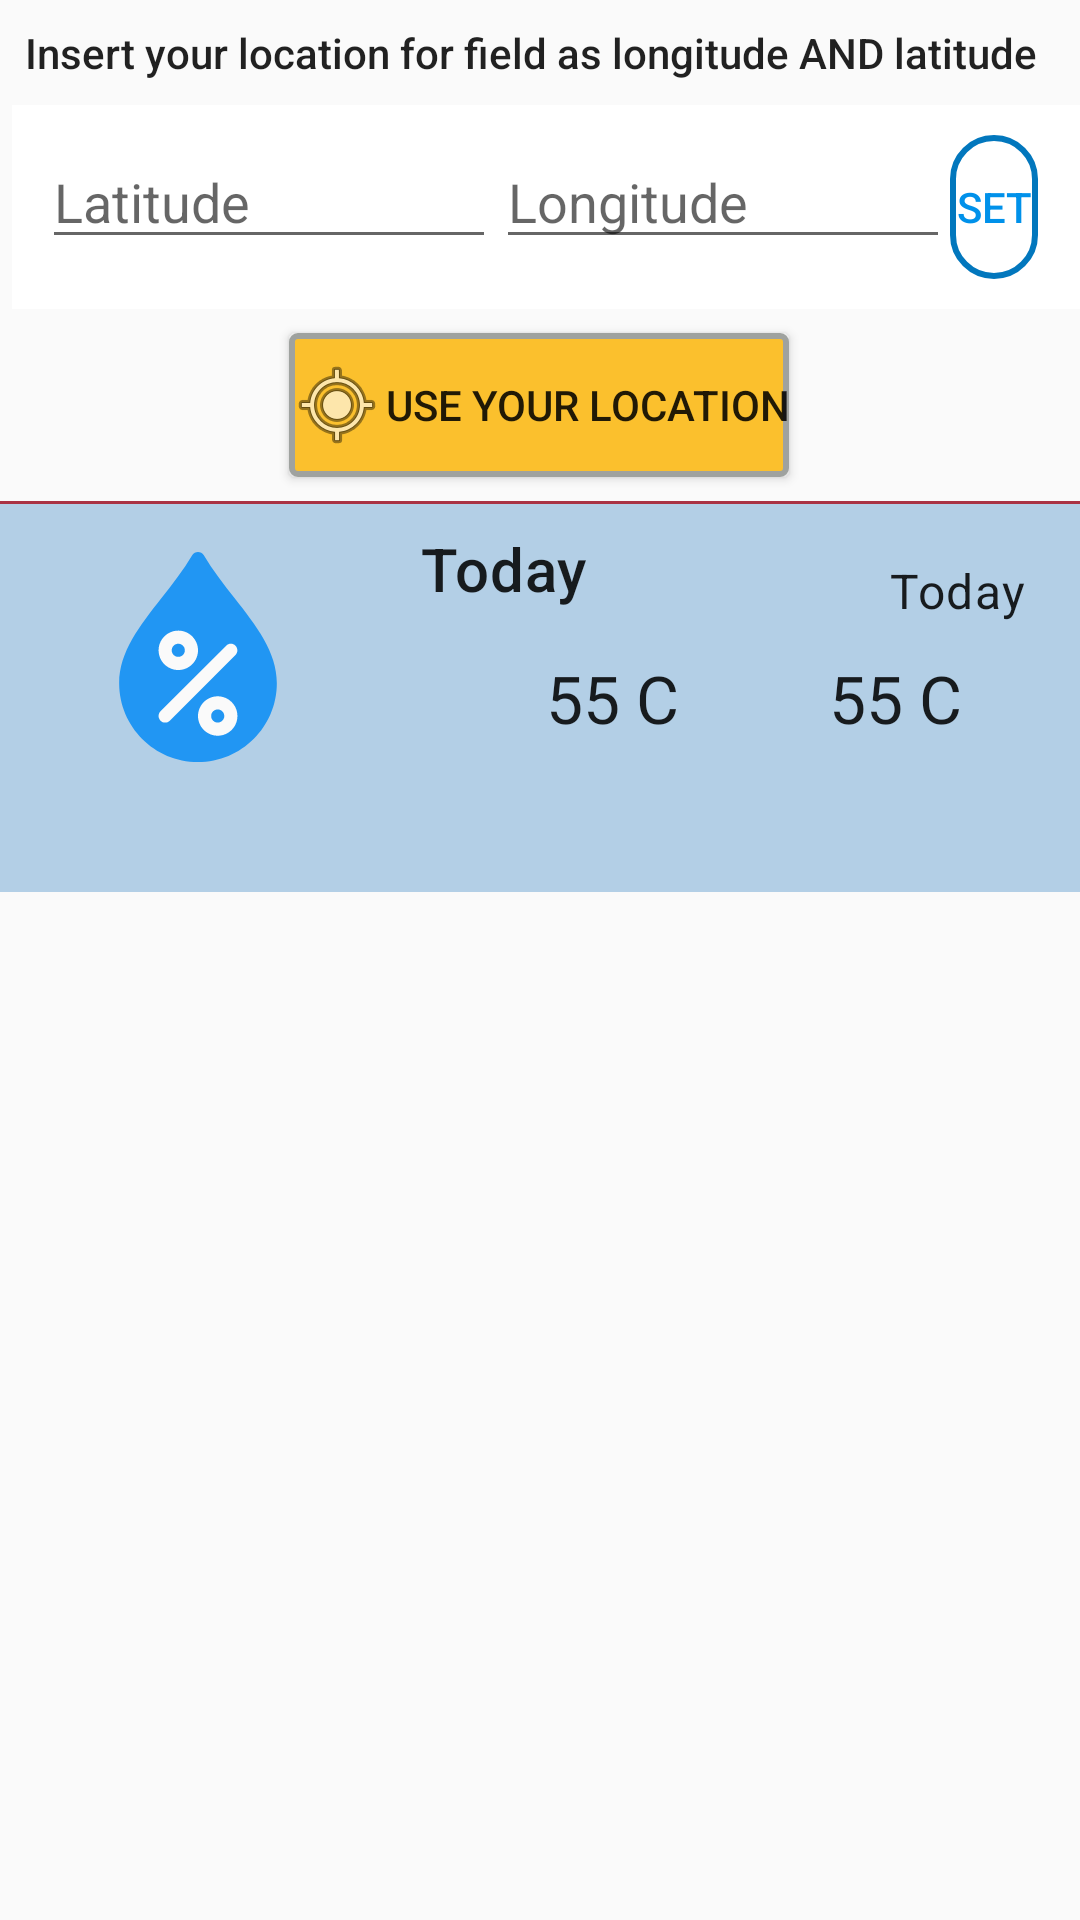

Icons on this 1080×1920 Android screen, each with the point to tap as (x=x, y=y):
Weather Image: (x=198, y=657)
